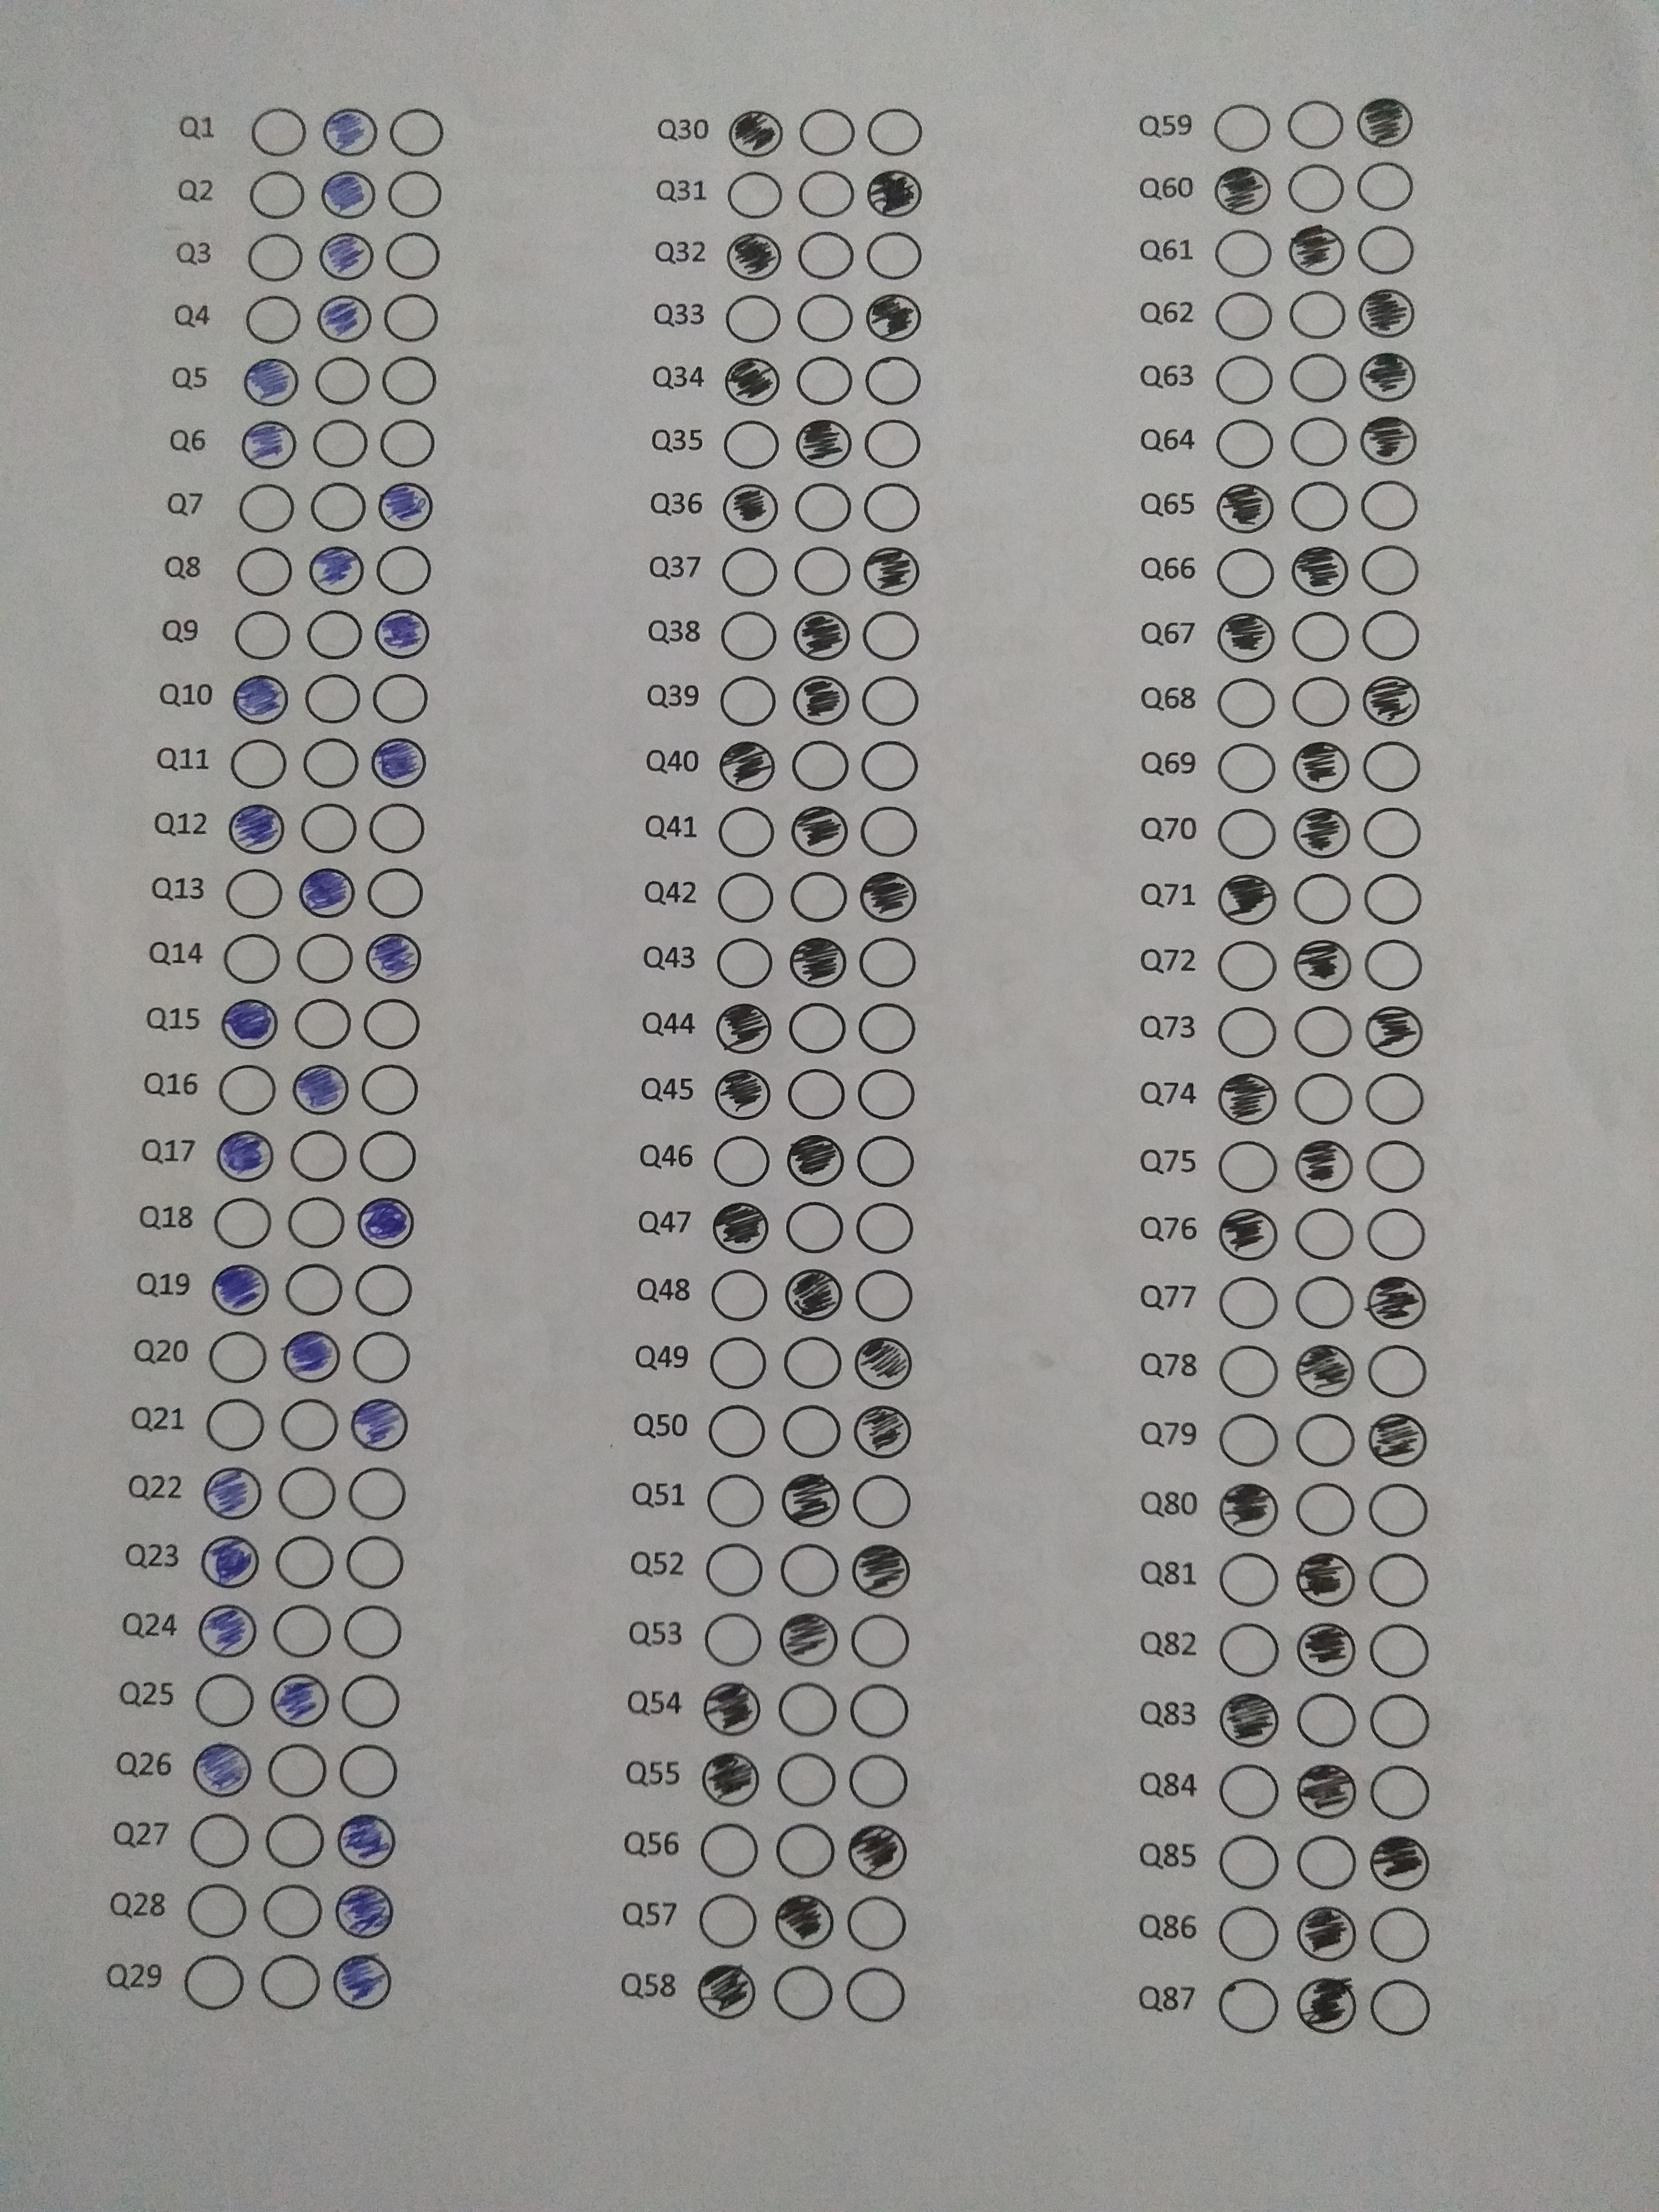not-c: (260, 1951, 321, 2010), (185, 1883, 247, 1940), (188, 1811, 253, 1867), (185, 1952, 244, 2012), (1218, 1977, 1279, 2034), (261, 1881, 324, 1937), (1371, 1979, 1431, 2036), (1218, 1905, 1279, 1961), (1371, 1905, 1429, 1963), (793, 542, 852, 597), (863, 350, 922, 406), (864, 105, 924, 160), (727, 167, 786, 223), (380, 352, 439, 408), (312, 352, 371, 408), (382, 289, 441, 345), (1368, 1343, 1427, 1399), (1370, 1482, 1429, 1538), (1295, 1275, 1354, 1331), (1295, 1205, 1354, 1261), (1218, 1003, 1277, 1059), (1363, 871, 1422, 927), (854, 1198, 913, 1254), (352, 1458, 411, 1514), (345, 1533, 404, 1588), (277, 1465, 336, 1521), (275, 1533, 335, 1588), (352, 1331, 411, 1386), (699, 1893, 758, 1949), (1298, 1691, 1358, 1747), (1220, 1622, 1279, 1677), (1370, 1552, 1429, 1608), (1215, 289, 1274, 345), (1290, 350, 1349, 406), (1290, 479, 1349, 535), (720, 672, 777, 728), (863, 477, 920, 533), (355, 1263, 413, 1318), (387, 106, 446, 160), (861, 737, 920, 791), (861, 608, 920, 662), (718, 606, 777, 660), (721, 543, 781, 597), (795, 477, 854, 531), (863, 416, 922, 470), (723, 415, 782, 469), (795, 352, 854, 406), (796, 106, 856, 160), (796, 165, 856, 219), (864, 228, 924, 282), (796, 226, 856, 280), (796, 291, 856, 345), (723, 291, 782, 345), (265, 1813, 324, 1867), (364, 866, 423, 920), (223, 932, 282, 986), (296, 932, 355, 986), (227, 866, 286, 920), (300, 799, 359, 853), (230, 737, 289, 791), (301, 737, 361, 791), (303, 672, 362, 726), (369, 671, 429, 725), (234, 608, 293, 662), (237, 482, 296, 536), (235, 543, 295, 597), (375, 543, 434, 597), (308, 479, 368, 533), (312, 415, 371, 469), (378, 415, 437, 469), (246, 293, 305, 347), (246, 230, 305, 284), (382, 230, 441, 284), (249, 167, 308, 221), (249, 105, 308, 158), (1297, 1482, 1356, 1536), (1220, 1413, 1279, 1467), (1213, 99, 1272, 153), (1361, 542, 1420, 596), (1216, 547, 1276, 601), (1361, 608, 1420, 662), (859, 805, 918, 859), (1291, 672, 1351, 726), (1216, 674, 1276, 728), (1363, 738, 1422, 792), (1216, 740, 1276, 794), (1218, 1343, 1277, 1397), (1220, 1275, 1279, 1329), (1366, 1205, 1425, 1259), (1366, 1137, 1425, 1191), (1218, 1139, 1277, 1193), (1293, 1071, 1352, 1125), (711, 1336, 770, 1390), (1293, 1003, 1352, 1057), (1363, 935, 1422, 989), (1293, 871, 1352, 925), (1363, 806, 1422, 860), (1218, 806, 1277, 860), (1216, 939, 1276, 993), (711, 1268, 770, 1322), (854, 1268, 913, 1322), (784, 1202, 843, 1256), (713, 1134, 772, 1188), (856, 1132, 915, 1186), (857, 1064, 917, 1118), (788, 1001, 847, 1055), (857, 1000, 917, 1054), (714, 934, 774, 988), (857, 935, 917, 989), (716, 871, 775, 925), (791, 737, 850, 791), (789, 871, 849, 925), (718, 805, 777, 859), (861, 672, 920, 726), (267, 1743, 326, 1797), (338, 1743, 397, 1797), (340, 1674, 399, 1728), (281, 1397, 340, 1451), (342, 1604, 401, 1658), (207, 1399, 267, 1453), (284, 1261, 343, 1315), (213, 1197, 272, 1251), (286, 1195, 345, 1249), (289, 1129, 349, 1183), (357, 1129, 416, 1183), (216, 1061, 275, 1115), (359, 1061, 418, 1115), (293, 996, 352, 1050), (364, 998, 423, 1052), (701, 1824, 760, 1878), (775, 1824, 835, 1878), (1220, 1836, 1279, 1890), (847, 1897, 906, 1951), (1370, 1623, 1429, 1677), (777, 1752, 836, 1806), (1218, 1552, 1277, 1606), (1220, 1764, 1279, 1818), (845, 1966, 904, 2020), (849, 1754, 908, 1808), (777, 1683, 836, 1737), (850, 1684, 910, 1738), (704, 1613, 763, 1667), (850, 1613, 910, 1667), (706, 1474, 765, 1527), (852, 1475, 911, 1529), (708, 1402, 767, 1456), (782, 1402, 842, 1456), (784, 1334, 843, 1388), (1356, 158, 1415, 212), (1288, 160, 1347, 214), (1288, 289, 1347, 343), (1356, 223, 1415, 277), (1215, 354, 1274, 408), (1290, 413, 1349, 467), (1361, 475, 1420, 529), (1286, 96, 1345, 150), (368, 801, 425, 855), (305, 606, 362, 660), (385, 167, 443, 221), (1297, 1413, 1354, 1467), (1291, 608, 1349, 662), (1366, 1069, 1424, 1123), (788, 1066, 845, 1120), (197, 1674, 254, 1728), (274, 1604, 331, 1658), (211, 1329, 268, 1383), (775, 1965, 833, 2019), (1371, 1764, 1429, 1818), (1298, 1836, 1356, 1890), (1371, 1693, 1429, 1747), (706, 1541, 763, 1595), (781, 1543, 838, 1597), (1215, 225, 1272, 279), (1216, 418, 1274, 472)
taken-c: (1366, 1831, 1432, 1893), (845, 1820, 911, 1881), (1291, 1761, 1359, 1820), (335, 1811, 399, 1872), (1291, 1341, 1358, 1400), (1293, 1904, 1359, 1963), (695, 1961, 758, 2022), (1297, 1548, 1359, 1609), (852, 1332, 915, 1392), (331, 1952, 394, 2012), (850, 1541, 913, 1601), (699, 1749, 762, 1808), (1291, 934, 1354, 993), (195, 1602, 261, 1658), (188, 1742, 254, 1797), (1213, 610, 1279, 665), (781, 1470, 842, 1529), (775, 1892, 836, 1951), (1364, 1001, 1424, 1062), (1297, 1977, 1358, 2036), (852, 1404, 915, 1461), (1216, 1071, 1279, 1129), (1364, 1273, 1427, 1331), (1218, 1482, 1281, 1540), (1218, 1691, 1281, 1749), (333, 1885, 397, 1940), (1216, 1209, 1281, 1264), (1295, 1622, 1359, 1677), (781, 1609, 840, 1669), (784, 1266, 845, 1324), (1358, 347, 1419, 404), (1293, 1137, 1354, 1195), (1216, 873, 1279, 928), (1366, 1413, 1429, 1468), (856, 869, 920, 923), (199, 1536, 263, 1590), (357, 1193, 416, 1251), (714, 1000, 774, 1057), (709, 1200, 770, 1256), (349, 1395, 410, 1451), (270, 1674, 331, 1730), (1216, 481, 1277, 536), (701, 1683, 763, 1737), (1354, 96, 1417, 150), (1209, 164, 1272, 218), (1356, 286, 1419, 340), (1356, 415, 1419, 469), (220, 996, 279, 1052), (213, 1261, 272, 1317), (282, 1329, 342, 1385), (791, 803, 850, 859), (713, 1068, 772, 1123), (786, 1132, 845, 1188), (362, 930, 423, 984), (1290, 543, 1351, 597), (1291, 738, 1352, 792), (793, 418, 856, 470), (322, 105, 380, 160), (293, 1062, 350, 1118), (204, 1467, 261, 1522), (378, 481, 437, 535), (307, 543, 366, 597), (369, 737, 429, 791), (793, 610, 852, 664), (789, 937, 849, 991), (1291, 806, 1351, 860), (791, 674, 852, 726), (861, 545, 922, 597), (720, 482, 781, 535), (295, 866, 355, 918), (1290, 221, 1345, 277), (230, 674, 289, 726), (716, 740, 775, 792), (864, 167, 924, 219), (214, 1130, 274, 1183), (1363, 674, 1422, 726), (227, 805, 288, 855), (866, 291, 922, 345), (317, 230, 375, 282), (242, 357, 300, 409), (240, 420, 298, 472), (725, 355, 782, 408), (725, 230, 782, 282), (315, 294, 375, 345), (373, 608, 432, 658), (319, 169, 376, 219), (728, 110, 784, 158)
